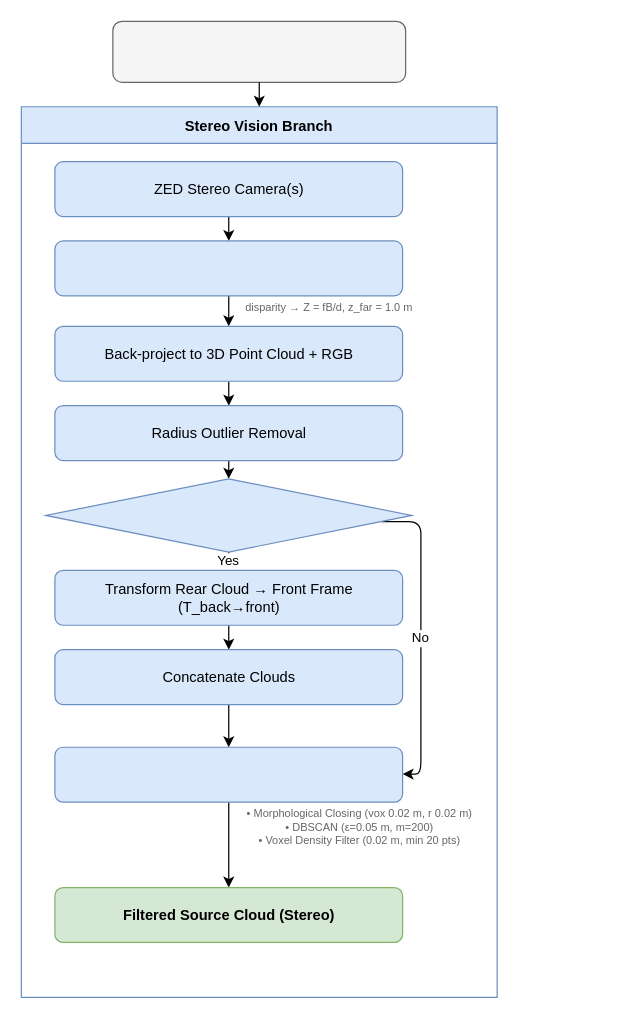
Image size: 641x1019. Some labels were removed from this diagram. The box of each missing label's shape, as (x1, y1, x2, y2) in pixels:
Dual-Camera Config?: (45, 478, 412, 552)
FoundationStereo Depth Estimation: (54, 240, 403, 296)
Initial Pose (from SLAM): (112, 20, 406, 82)
Trunk Segmentation: (54, 746, 403, 802)
